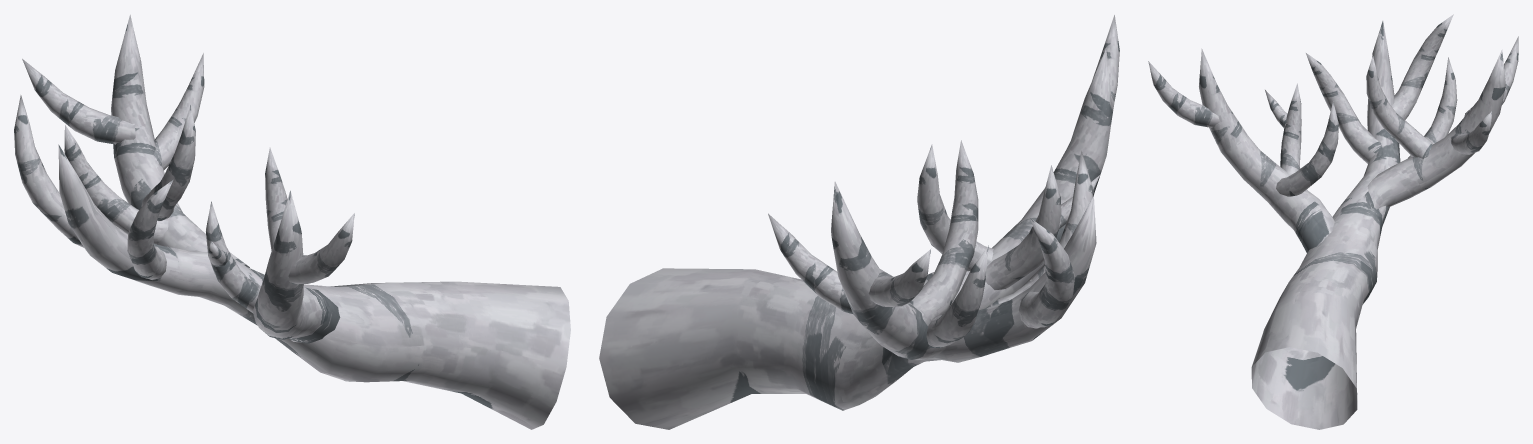
File: Treetop Branch Big.fbx
3 views of the same model, side by side, from view 1: azimuth 30°, elevation 25°; view 2: azimuth 150°, elevation 25°; view 3: azimuth 270°, elevation 25° (orthographic). The views are drawn at different scales.
Parts seen in each view (by area): view 1: Big Branch; view 2: Big Branch; view 3: Big Branch.
Part boxes in pixels (<box>): Big Branch: <box>14,14,570,429</box>; Big Branch: <box>599,15,1119,429</box>; Big Branch: <box>1148,14,1518,429</box>.
Size of the model in its own units: 648 by 497 by 591.
